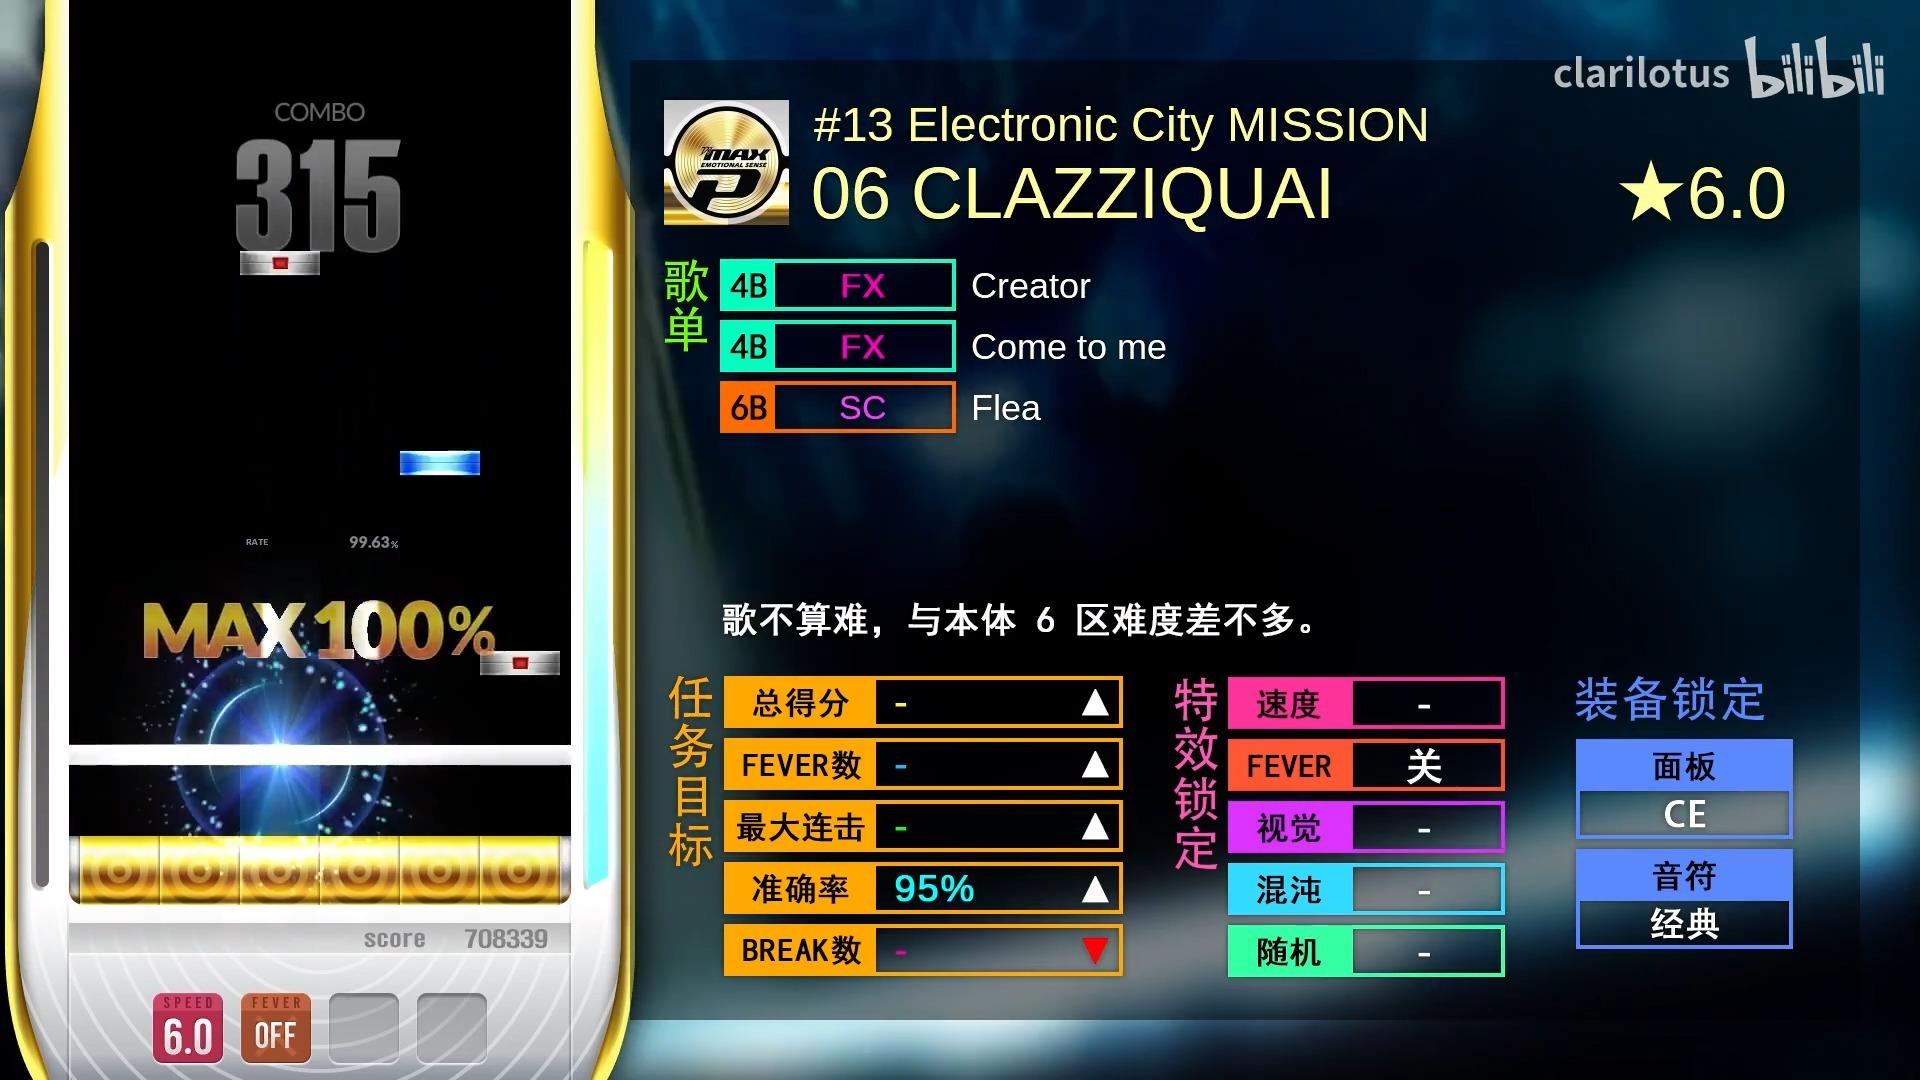note: (240, 251, 320, 276), (400, 450, 480, 475), (480, 650, 560, 674)
